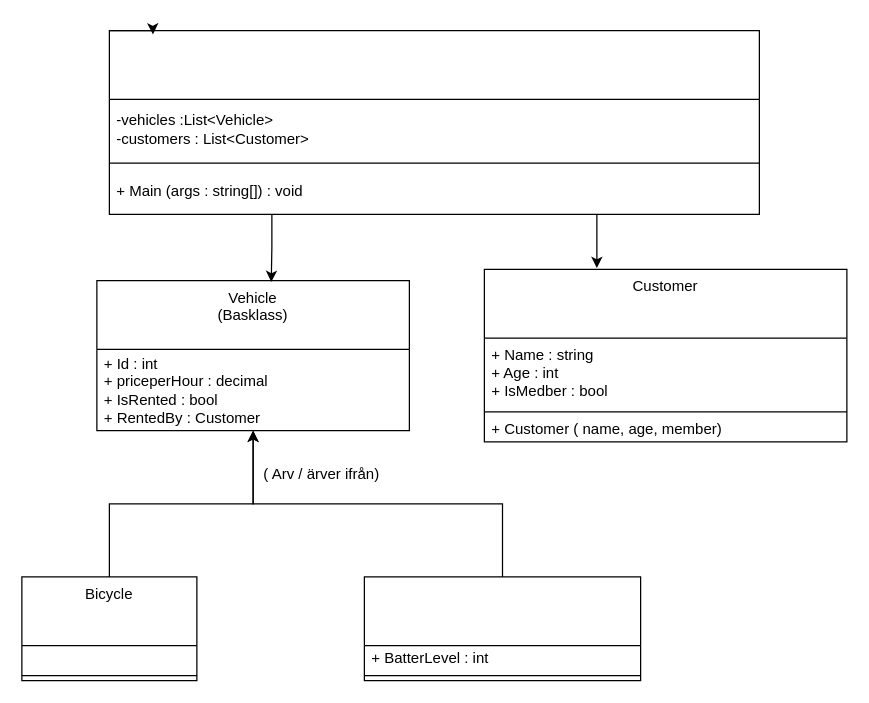
The diagram is 869 pixels wide and 703 high, and some of its shapes have lost their labels. The shapes that lost their labels are listed below. From the top down, each one's box as (x1, y1, x2, y2) in pixels, then its label:
(108, 29, 759, 214): Program
(363, 576, 641, 681): ElectricBicycle
